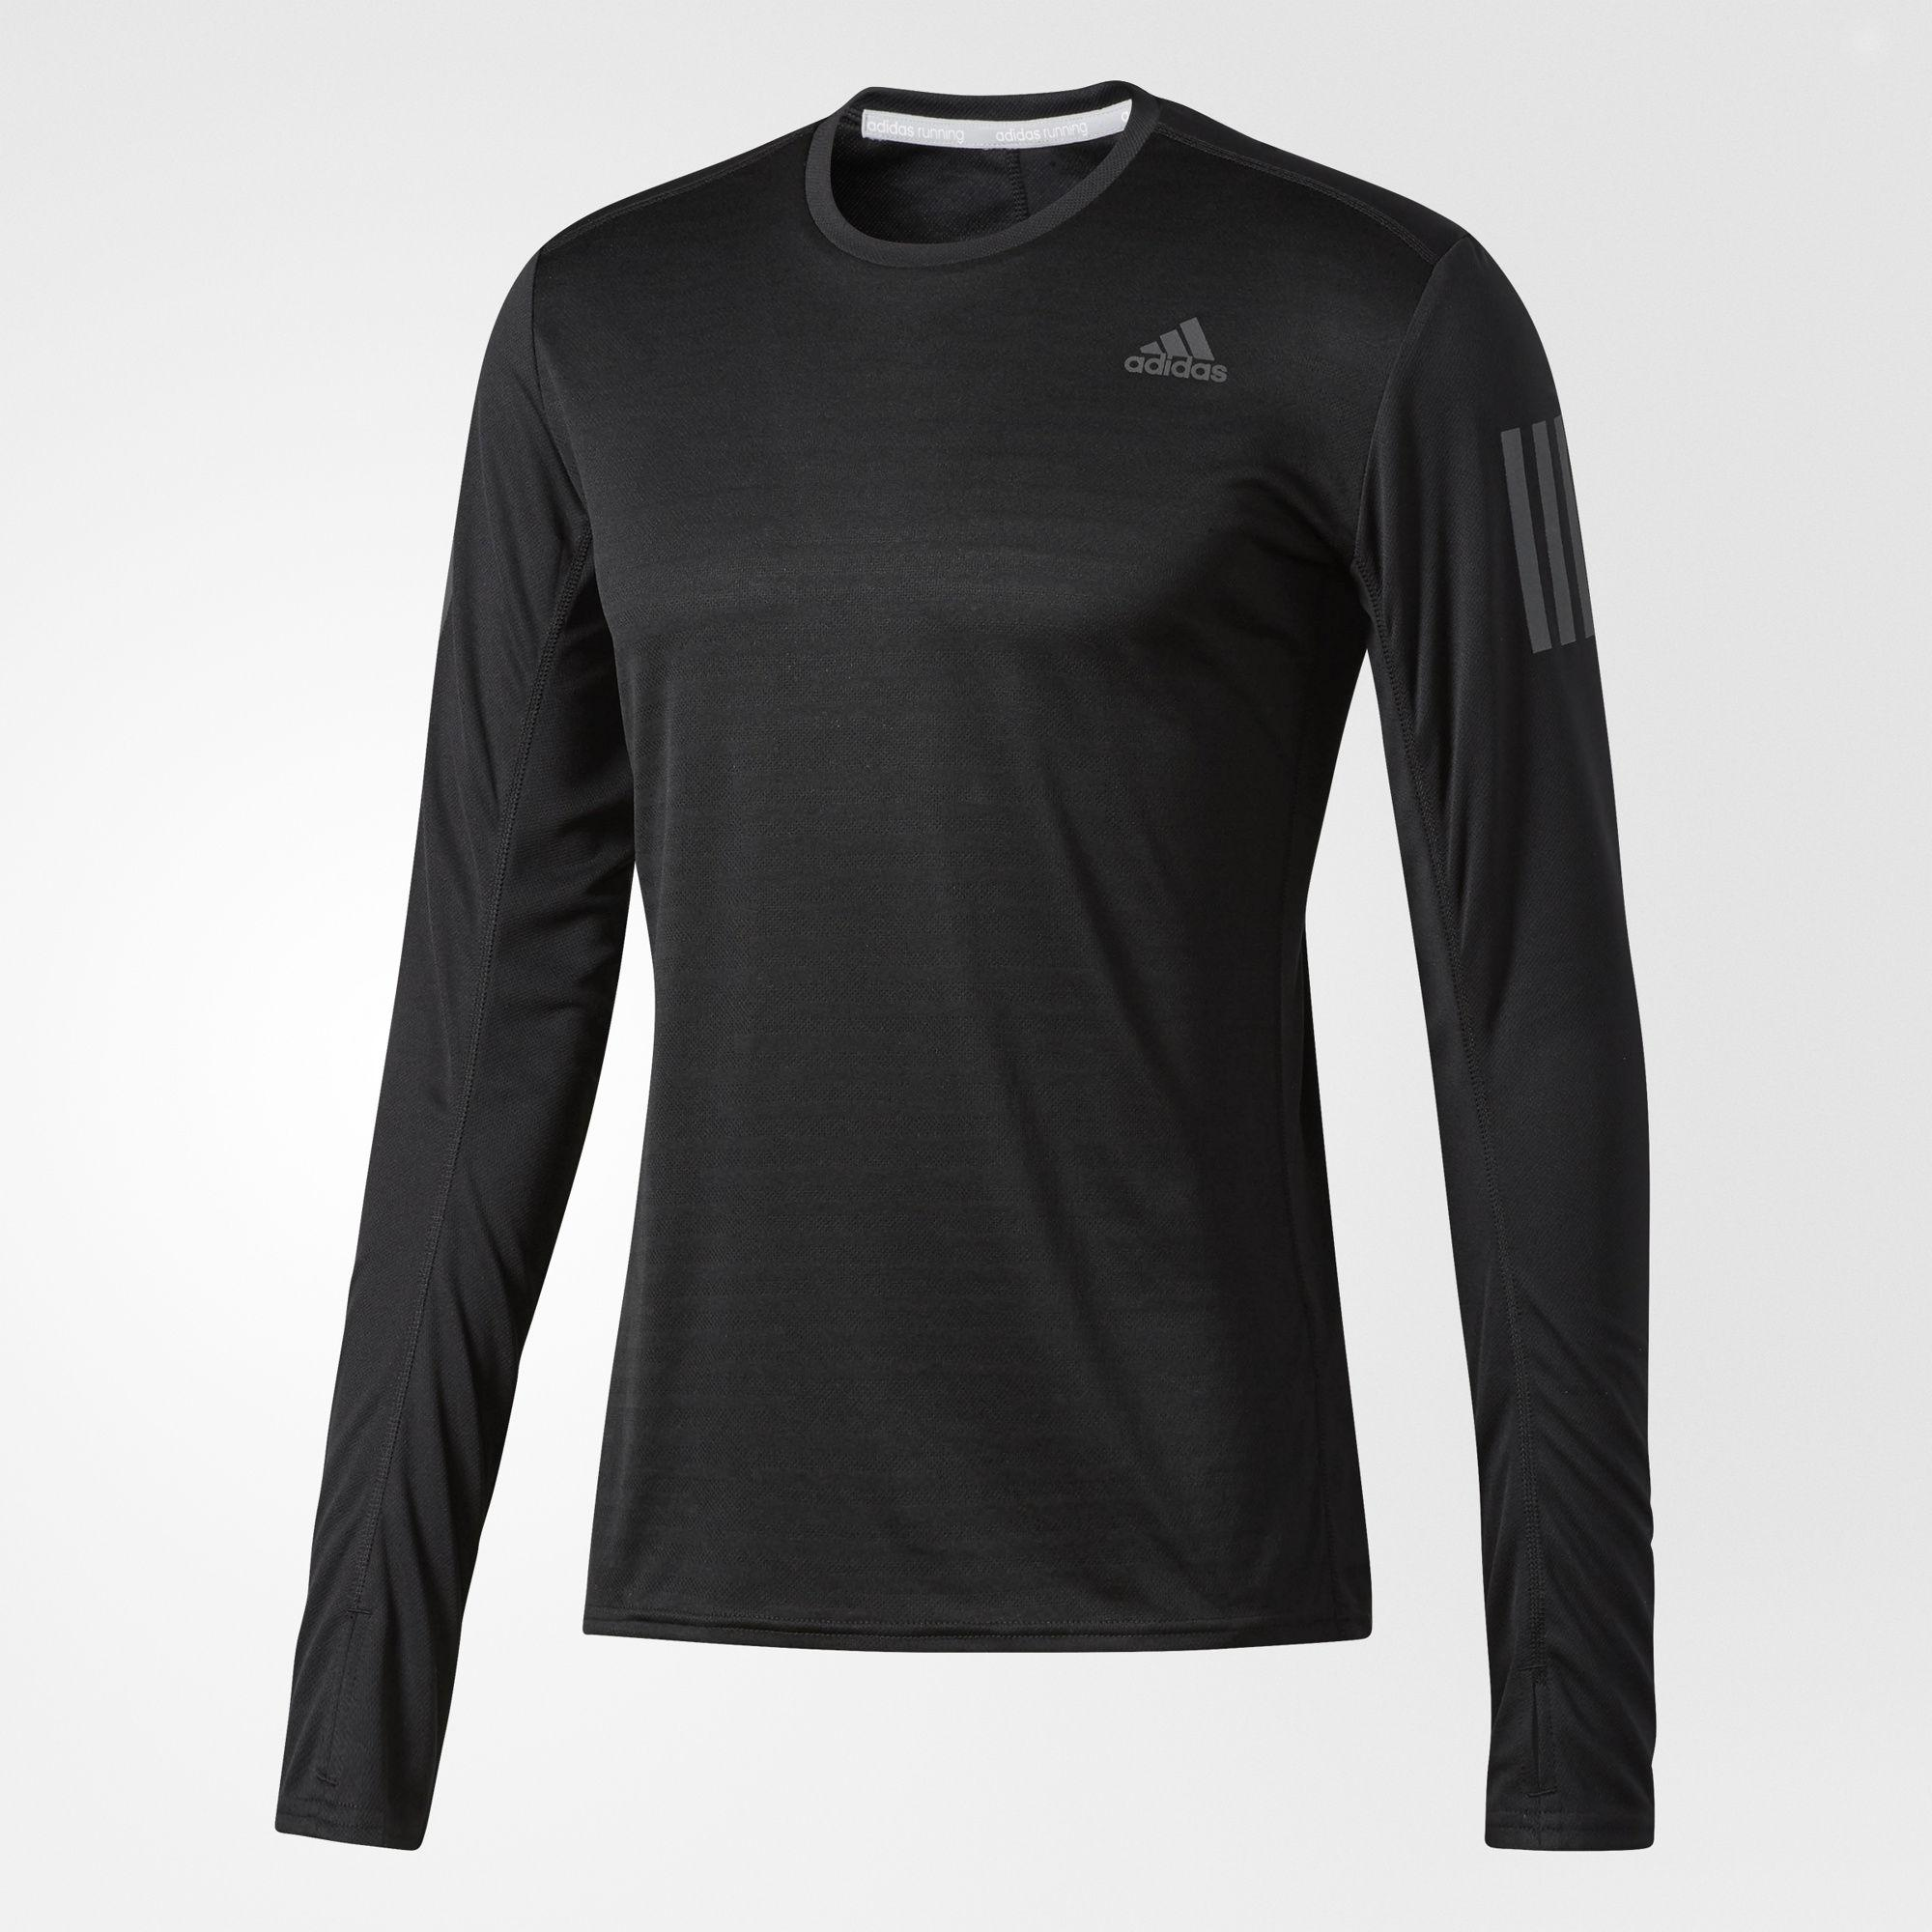teeshirt: (203, 58, 1711, 1875)
